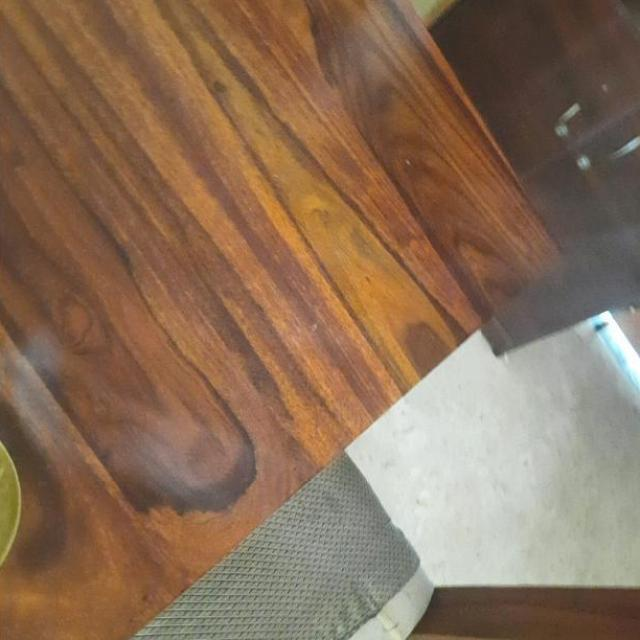fire: (4, 262, 283, 588)
